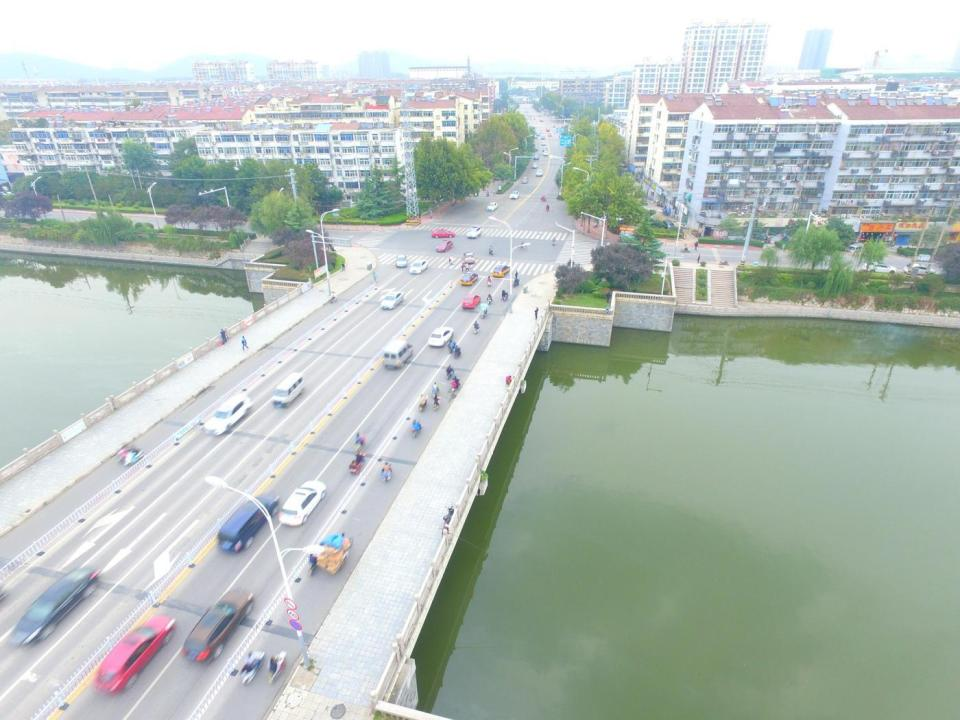car: (6, 564, 99, 647), (92, 612, 176, 694), (178, 586, 255, 665), (219, 495, 280, 553), (274, 478, 327, 526), (200, 392, 252, 437), (861, 260, 897, 276), (426, 322, 452, 344), (903, 261, 937, 277), (382, 290, 406, 312), (460, 293, 479, 310), (408, 260, 430, 274), (460, 271, 478, 286), (491, 265, 512, 277), (435, 239, 453, 252), (431, 228, 455, 237), (394, 252, 406, 268), (466, 227, 482, 238), (463, 251, 474, 263), (487, 202, 498, 211), (508, 190, 519, 199), (494, 172, 505, 180), (520, 176, 528, 183), (536, 169, 543, 177), (532, 162, 538, 168), (542, 150, 548, 156), (542, 146, 548, 152), (533, 154, 538, 160), (541, 141, 546, 146), (534, 145, 538, 151), (540, 135, 546, 139), (548, 132, 552, 136), (536, 132, 540, 136), (534, 135, 538, 139), (545, 128, 550, 131), (539, 118, 543, 121), (527, 121, 531, 124)
van: (272, 371, 307, 407), (383, 339, 414, 370), (844, 242, 865, 258), (663, 219, 676, 235)
